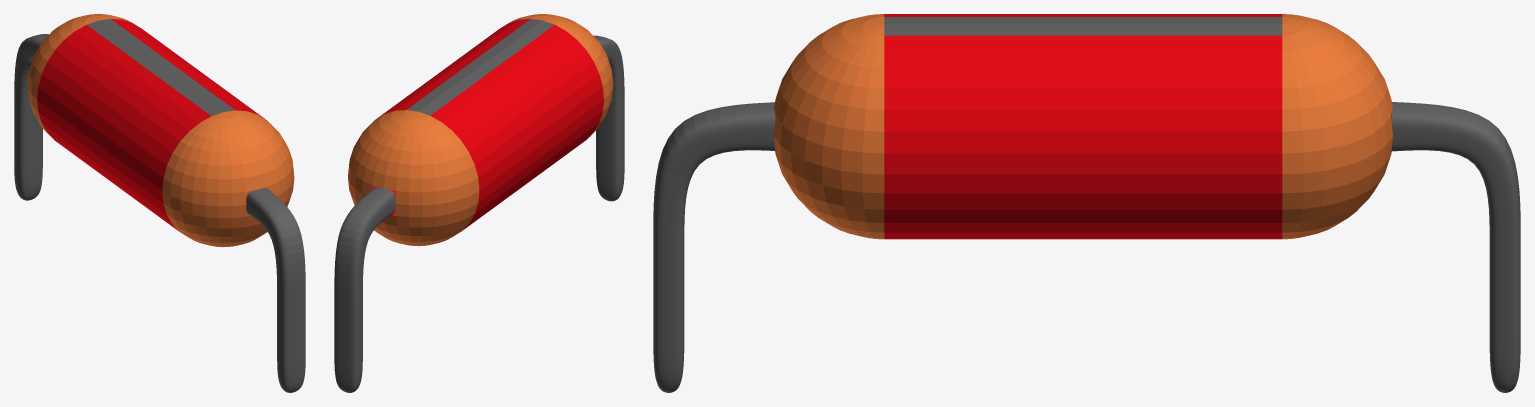
The model's file is Barrel_Red.fbx.
3 views of the same model, side by side, from view 1: azimuth 30°, elevation 25°; view 2: azimuth 150°, elevation 25°; view 3: azimuth 270°, elevation 25° (orthographic). The views are drawn at different scales.
Visible parts, largest first — view 1: Sphere, Sphere.001; view 2: Sphere, Sphere.001; view 3: Sphere, Sphere.001.
Boxes of the visible parts, x1,y1,x2,y2 form: Sphere: [28, 14, 294, 247]; Sphere.001: [14, 34, 305, 392]; Sphere: [348, 14, 613, 246]; Sphere.001: [334, 35, 624, 392]; Sphere: [774, 14, 1392, 239]; Sphere.001: [653, 102, 1520, 392].
Size of the model in its own units: 200 by 359 by 769.
